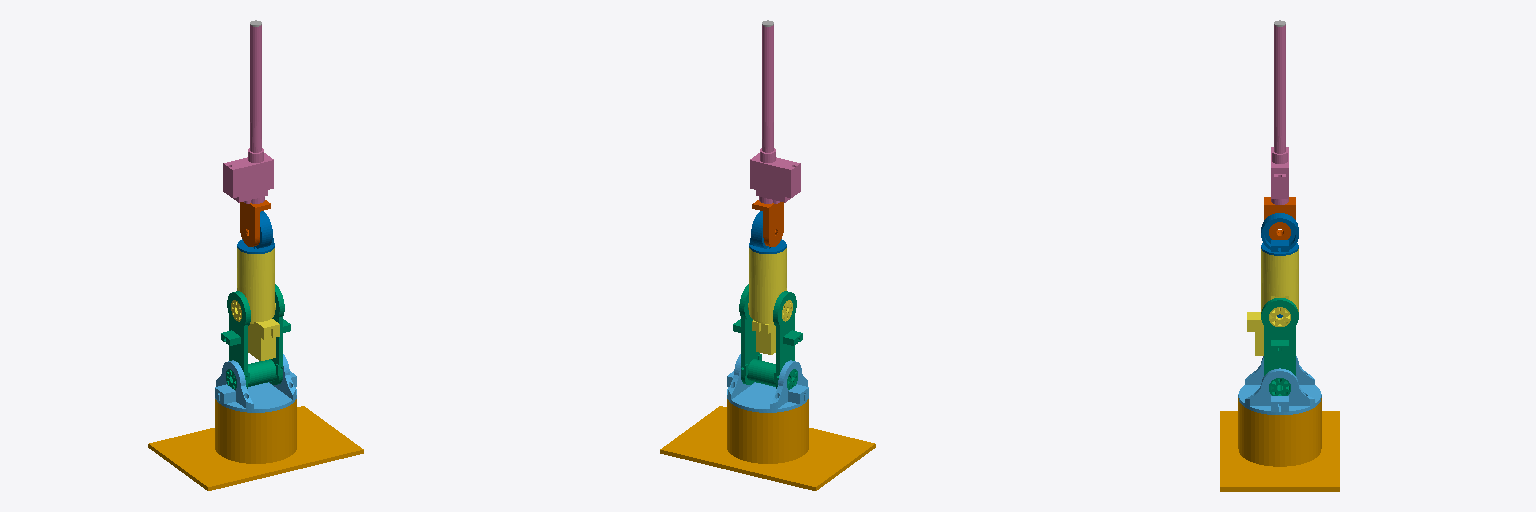
URDF robot description (armsimplified-cigarette-new):
<?xml version="1.0" ?>
<robot name="armsimplified-cigarette-new">

<material name="silver">
  <color rgba="0.700 0.700 0.700 1.000"/>
</material>

<link name="base_link">
  <inertial>
    <origin xyz="-0.0001431804689168035 3.518485190128494e-10 0.007056338192618283" rpy="0 0 0"/>
    <mass value="0.31095920589985737"/>
    <inertia ixx="0.00018228002949486542" iyy="0.00033626822261866105" izz="0.00044931614653621465" ixy="4.883798059398419e-13" iyz="-1.6240530198957157e-12" ixz="6.608885838282056e-07"/>
  </inertial>
  <visual>
    <origin xyz="0 0 0" rpy="0 0 0"/>
    <geometry>
      <mesh filename="meshes/base_link.stl" scale="0.001 0.001 0.001"/>
    </geometry>
    <material name="silver"/>
    <material/>
  </visual>
  <collision>
    <origin xyz="0 0 0" rpy="0 0 0"/>
    <geometry>
      <mesh filename="meshes/base_link.stl" scale="0.001 0.001 0.001"/>
    </geometry>
  </collision>
</link>

<link name="Component81">
  <inertial>
    <origin xyz="-6.550390514533483e-06 1.0396631222294776e-17 0.0018412876342259327" rpy="0 0 0"/>
    <mass value="0.1609490715729834"/>
    <inertia ixx="2.7524271105809747e-05" iyy="4.028576791678326e-05" izz="5.183322863913554e-05" ixy="3.2791936780909094e-10" iyz="1.540792906851755e-20" ixz="-7.739767380917053e-09"/>
  </inertial>
  <visual>
    <origin xyz="-0.0 -0.0 -0.0407" rpy="0 0 0"/>
    <geometry>
      <mesh filename="meshes/Component81.stl" scale="0.001 0.001 0.001"/>
    </geometry>
    <material name="silver"/>
    <material/>
  </visual>
  <collision>
    <origin xyz="-0.0 -0.0 -0.0407" rpy="0 0 0"/>
    <geometry>
      <mesh filename="meshes/Component81.stl" scale="0.001 0.001 0.001"/>
    </geometry>
  </collision>
</link>

<link name="Component141">
  <inertial>
    <origin xyz="-0.018999994546847268 2.325784771746402e-08 0.019110039074927088" rpy="0 0 0"/>
    <mass value="0.10089894701692347"/>
    <inertia ixx="4.4188662614157246e-05" iyy="5.824583789343981e-05" izz="2.0675968286208336e-05" ixy="3.5803159968465916e-12" iyz="3.379032645154819e-11" ixz="8.09334846449024e-12"/>
  </inertial>
  <visual>
    <origin xyz="-0.019 -0.0 -0.0567" rpy="0 0 0"/>
    <geometry>
      <mesh filename="meshes/Component141.stl" scale="0.001 0.001 0.001"/>
    </geometry>
    <material name="silver"/>
    <material/>
  </visual>
  <collision>
    <origin xyz="-0.019 -0.0 -0.0567" rpy="0 0 0"/>
    <geometry>
      <mesh filename="meshes/Component141.stl" scale="0.001 0.001 0.001"/>
    </geometry>
  </collision>
</link>

<link name="Component181">
  <inertial>
    <origin xyz="-0.015000782561860116 -0.0026583993766091996 0.000719507187959198" rpy="0 0 0"/>
    <mass value="0.13863430823250342"/>
    <inertia ixx="7.987360640756224e-05" iyy="7.654571826350457e-05" izz="1.5291134098194185e-05" ixy="2.9621293070201167e-10" iyz="-7.017657534773419e-06" ixz="-1.4255337220785136e-10"/>
  </inertial>
  <visual>
    <origin xyz="-0.015 0.0 -0.1067" rpy="0 0 0"/>
    <geometry>
      <mesh filename="meshes/Component181.stl" scale="0.001 0.001 0.001"/>
    </geometry>
    <material name="silver"/>
    <material/>
  </visual>
  <collision>
    <origin xyz="-0.015 0.0 -0.1067" rpy="0 0 0"/>
    <geometry>
      <mesh filename="meshes/Component181.stl" scale="0.001 0.001 0.001"/>
    </geometry>
  </collision>
</link>

<link name="Component211">
  <inertial>
    <origin xyz="0.00044568422756962445 7.837373093590852e-06 -0.01368343846705608" rpy="0 0 0"/>
    <mass value="0.07103948810562974"/>
    <inertia ixx="2.9014062362727562e-05" iyy="2.832798858291071e-05" izz="3.0627148128749514e-06" ixy="-7.948867385366237e-10" iyz="-1.3940718396036794e-08" ixz="-6.803452956453313e-07"/>
  </inertial>
  <visual>
    <origin xyz="0.0 0.0 -0.150517" rpy="0 0 0"/>
    <geometry>
      <mesh filename="meshes/Component211.stl" scale="0.001 0.001 0.001"/>
    </geometry>
    <material name="silver"/>
    <material/>
  </visual>
  <collision>
    <origin xyz="0.0 0.0 -0.150517" rpy="0 0 0"/>
    <geometry>
      <mesh filename="meshes/Component211.stl" scale="0.001 0.001 0.001"/>
    </geometry>
  </collision>
</link>

<link name="wristflex_v11">
  <inertial>
    <origin xyz="-0.004325266658693454 1.3884727557366653e-07 0.007873194374792308" rpy="0 0 0"/>
    <mass value="0.028448493325534164"/>
    <inertia ixx="3.5093105822864073e-06" iyy="2.8363016484203108e-06" izz="1.1472570139368951e-06" ixy="-4.4513519527264884e-11" iyz="-1.9548034286078233e-10" ixz="-1.925924871618621e-07"/>
  </inertial>
  <visual>
    <origin xyz="-0.001488 -3.3e-05 -0.162617" rpy="0 0 0"/>
    <geometry>
      <mesh filename="meshes/wristflex_v11.stl" scale="0.001 0.001 0.001"/>
    </geometry>
    <material name="silver"/>
    <material/>
  </visual>
  <collision>
    <origin xyz="-0.001488 -3.3e-05 -0.162617" rpy="0 0 0"/>
    <geometry>
      <mesh filename="meshes/wristflex_v11.stl" scale="0.001 0.001 0.001"/>
    </geometry>
  </collision>
</link>

<link name="Component261">
  <inertial>
    <origin xyz="-0.0035305069405794647 -1.0249744473569043e-12 0.03769881284204432" rpy="0 0 0"/>
    <mass value="0.11692794330305231"/>
    <inertia ixx="0.0001396504297537975" iyy="0.0001449991873714333" izz="7.677618926657312e-06" ixy="-1.1989797379313584e-14" iyz="-4.1392855095848946e-15" ixz="-8.279465308613681e-06"/>
  </inertial>
  <visual>
    <origin xyz="-0.0 -0.0 -0.1847" rpy="0 0 0"/>
    <geometry>
      <mesh filename="meshes/Component261.stl" scale="0.001 0.001 0.001"/>
    </geometry>
    <material name="silver"/>
    <material/>
  </visual>
  <collision>
    <origin xyz="-0.0 -0.0 -0.1847" rpy="0 0 0"/>
    <geometry>
      <mesh filename="meshes/Component261.stl" scale="0.001 0.001 0.001"/>
    </geometry>
  </collision>
</link>

<link name="Component271">
  <inertial>
    <origin xyz="-4.1657259589788583e-13 -1.9818656883906908e-17 0.0005000021494925844" rpy="0 0 0"/>
    <mass value="0.0003847810901144548"/>
    <inertia ixx="1.5329515379587763e-09" iyy="1.5329519273838679e-09" izz="3.001773283671478e-09" ixy="-6.808789611441789e-25" iyz="5.599887402887576e-23" ixz="7.133158800641323e-23"/>
  </inertial>
  <visual>
    <origin xyz="0.0 0.0 -0.3144" rpy="0 0 0"/>
    <geometry>
      <mesh filename="meshes/Component271.stl" scale="0.001 0.001 0.001"/>
    </geometry>
    <material name="silver"/>
    <material/>
  </visual>
  <collision>
    <origin xyz="0.0 0.0 -0.3144" rpy="0 0 0"/>
    <geometry>
      <mesh filename="meshes/Component271.stl" scale="0.001 0.001 0.001"/>
    </geometry>
  </collision>
</link>

<joint name="Revolute_1" type="continuous">
  <origin xyz="0.0 0.0 0.0407" rpy="0 0 0"/>
  <parent link="base_link"/>
  <child link="Component81"/>
  <axis xyz="0.0 0.0 1.0"/>
</joint>
<transmission name="Revolute_1_tran">
  <type>transmission_interface/SimpleTransmission</type>
  <joint name="Revolute_1">
    <hardwareInterface>PositionJointInterface</hardwareInterface>
  </joint>
  <actuator name="Revolute_1_actr">
    <hardwareInterface>PositionJointInterface</hardwareInterface>
    <mechanicalReduction>1</mechanicalReduction>
  </actuator>
</transmission>

<joint name="Revolute_2" type="continuous">
  <origin xyz="0.019 0.0 0.016" rpy="0 0 0"/>
  <parent link="Component81"/>
  <child link="Component141"/>
  <axis xyz="1.0 -0.0 -0.0"/>
</joint>
<transmission name="Revolute_2_tran">
  <type>transmission_interface/SimpleTransmission</type>
  <joint name="Revolute_2">
    <hardwareInterface>PositionJointInterface</hardwareInterface>
  </joint>
  <actuator name="Revolute_2_actr">
    <hardwareInterface>PositionJointInterface</hardwareInterface>
    <mechanicalReduction>1</mechanicalReduction>
  </actuator>
</transmission>

<joint name="Revolute_3" type="continuous">
  <origin xyz="-0.004 -0.0 0.05" rpy="0 0 0"/>
  <parent link="Component141"/>
  <child link="Component181"/>
  <axis xyz="-1.0 -0.0 -0.0"/>
</joint>
<transmission name="Revolute_3_tran">
  <type>transmission_interface/SimpleTransmission</type>
  <joint name="Revolute_3">
    <hardwareInterface>PositionJointInterface</hardwareInterface>
  </joint>
  <actuator name="Revolute_3_actr">
    <hardwareInterface>PositionJointInterface</hardwareInterface>
    <mechanicalReduction>1</mechanicalReduction>
  </actuator>
</transmission>

<joint name="Revolute_4" type="continuous">
  <origin xyz="-0.015 0.0 0.043817" rpy="0 0 0"/>
  <parent link="Component181"/>
  <child link="Component211"/>
  <axis xyz="0.0 0.0 1.0"/>
</joint>
<transmission name="Revolute_4_tran">
  <type>transmission_interface/SimpleTransmission</type>
  <joint name="Revolute_4">
    <hardwareInterface>PositionJointInterface</hardwareInterface>
  </joint>
  <actuator name="Revolute_4_actr">
    <hardwareInterface>PositionJointInterface</hardwareInterface>
    <mechanicalReduction>1</mechanicalReduction>
  </actuator>
</transmission>

<joint name="Revolute_5" type="continuous">
  <origin xyz="0.001488 3.3e-05 0.0121" rpy="0 0 0"/>
  <parent link="Component211"/>
  <child link="wristflex_v11"/>
  <axis xyz="1.0 -0.0 -0.0"/>
</joint>
<transmission name="Revolute_5_tran">
  <type>transmission_interface/SimpleTransmission</type>
  <joint name="Revolute_5">
    <hardwareInterface>PositionJointInterface</hardwareInterface>
  </joint>
  <actuator name="Revolute_5_actr">
    <hardwareInterface>PositionJointInterface</hardwareInterface>
    <mechanicalReduction>1</mechanicalReduction>
  </actuator>
</transmission>

<joint name="Revolute_7" type="continuous">
  <origin xyz="-0.001488 -3.3e-05 0.022083" rpy="0 0 0"/>
  <parent link="wristflex_v11"/>
  <child link="Component261"/>
  <axis xyz="0.0 -0.0 1.0"/>
</joint>
<transmission name="Revolute_7_tran">
  <type>transmission_interface/SimpleTransmission</type>
  <joint name="Revolute_7">
    <hardwareInterface>PositionJointInterface</hardwareInterface>
  </joint>
  <actuator name="Revolute_7_actr">
    <hardwareInterface>PositionJointInterface</hardwareInterface>
    <mechanicalReduction>1</mechanicalReduction>
  </actuator>
</transmission>

<joint name="Revolute_8" type="continuous">
  <origin xyz="-0.0 -0.0 0.1297" rpy="0 0 0"/>
  <parent link="Component261"/>
  <child link="Component271"/>
  <axis xyz="-0.0 -0.0 1.0"/>
</joint>
<transmission name="Revolute_8_tran">
  <type>transmission_interface/SimpleTransmission</type>
  <joint name="Revolute_8">
    <hardwareInterface>PositionJointInterface</hardwareInterface>
  </joint>
  <actuator name="Revolute_8_actr">
    <hardwareInterface>PositionJointInterface</hardwareInterface>
    <mechanicalReduction>1</mechanicalReduction>
  </actuator>
</transmission>

</robot>

--- What the picture shows (computed from the rendered views, not written in the file) ---
Views: 3 orthographic renders of the robot side by side, from view 1: azimuth 30°, elevation 25°; view 2: azimuth 150°, elevation 25°; view 3: azimuth 270°, elevation 25°.
Robot: armsimplified-cigarette-new — 8 links, 7 joints (7 continuous); root link base_link; default pose: every joint at zero.
Visible links, largest first — view 1: base_link, Component261, Component181, Component141, Component81, wristflex_v11, Component211; view 2: base_link, Component261, Component141, Component181, Component81, wristflex_v11, Component211; view 3: base_link, Component81, Component181, Component261, Component141, Component211, wristflex_v11.
Boxes of the visible links, bbox=[...] form: base_link: bbox=[148, 399, 363, 490]; Component261: bbox=[223, 25, 273, 203]; Component181: bbox=[231, 248, 279, 360]; Component141: bbox=[221, 284, 290, 389]; Component81: bbox=[215, 354, 296, 412]; wristflex_v11: bbox=[240, 200, 270, 246]; Component211: bbox=[237, 211, 274, 253]; base_link: bbox=[660, 399, 875, 490]; Component261: bbox=[750, 25, 800, 203]; Component141: bbox=[733, 284, 802, 389]; Component181: bbox=[748, 248, 792, 354]; Component81: bbox=[727, 354, 808, 412]; wristflex_v11: bbox=[752, 200, 783, 246]; Component211: bbox=[749, 211, 786, 253]; base_link: bbox=[1220, 398, 1339, 491]; Component81: bbox=[1238, 356, 1321, 414]; Component181: bbox=[1247, 249, 1298, 355]; Component261: bbox=[1271, 25, 1288, 204]; Component141: bbox=[1261, 298, 1298, 395]; Component211: bbox=[1261, 213, 1298, 317]; wristflex_v11: bbox=[1264, 197, 1295, 239].
Bounding box of the posed robot: 0.12 × 0.08 × 0.3154 m (x, y, z).
Meshes: 8 distinct files referenced, 8 mesh visuals loaded (8 binary STL).